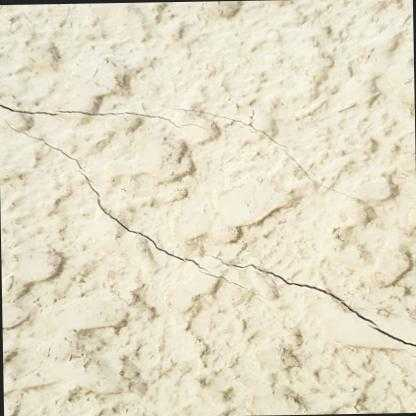crack: (0, 114, 259, 295), (207, 252, 416, 350), (166, 105, 357, 198), (0, 100, 210, 129)
